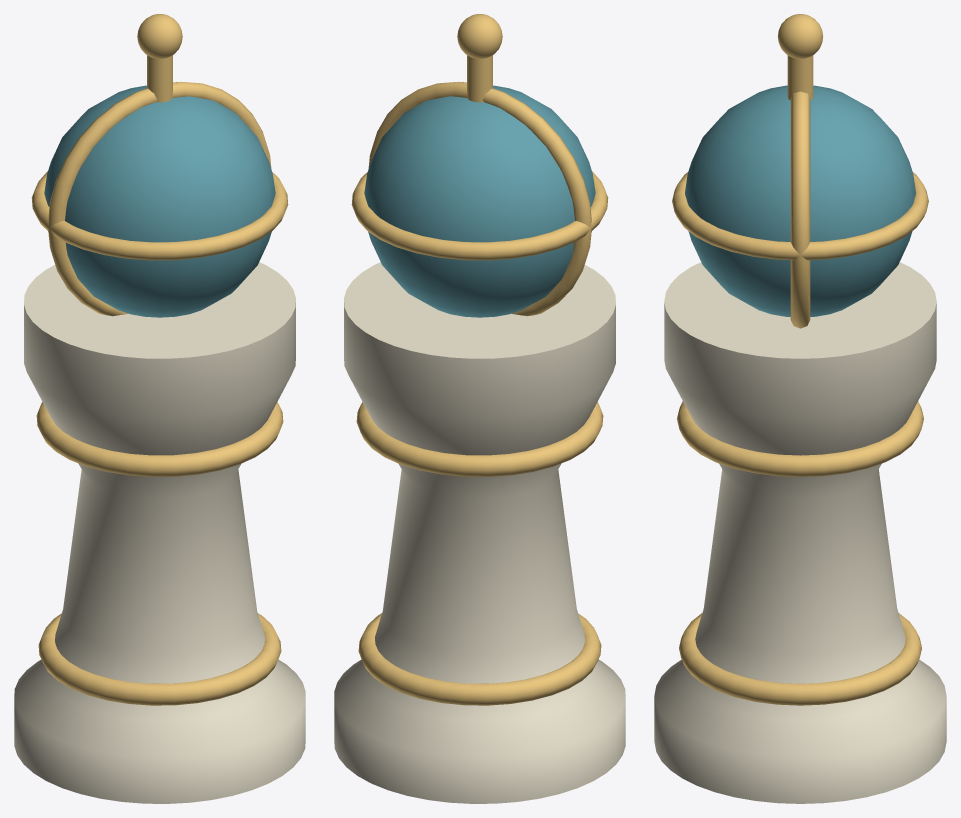
File: royal-court-and-throne-palace-orb-display-plinth-a579cdb3__29392.glb
3 renders of one model, left to right at view 1: azimuth 30°, elevation 25°; view 2: azimuth 150°, elevation 25°; view 3: azimuth 270°, elevation 25°, orthographic.
Visible parts, largest first — view 1: orb-display-plinth; view 2: orb-display-plinth; view 3: orb-display-plinth.
Part boxes in pixels (box(x1,y1,x2,y2)): orb-display-plinth: box(14, 14, 305, 803); orb-display-plinth: box(334, 14, 625, 803); orb-display-plinth: box(654, 14, 946, 803).
Size of the model in its own units: 0.45 by 1.24 by 0.45.
